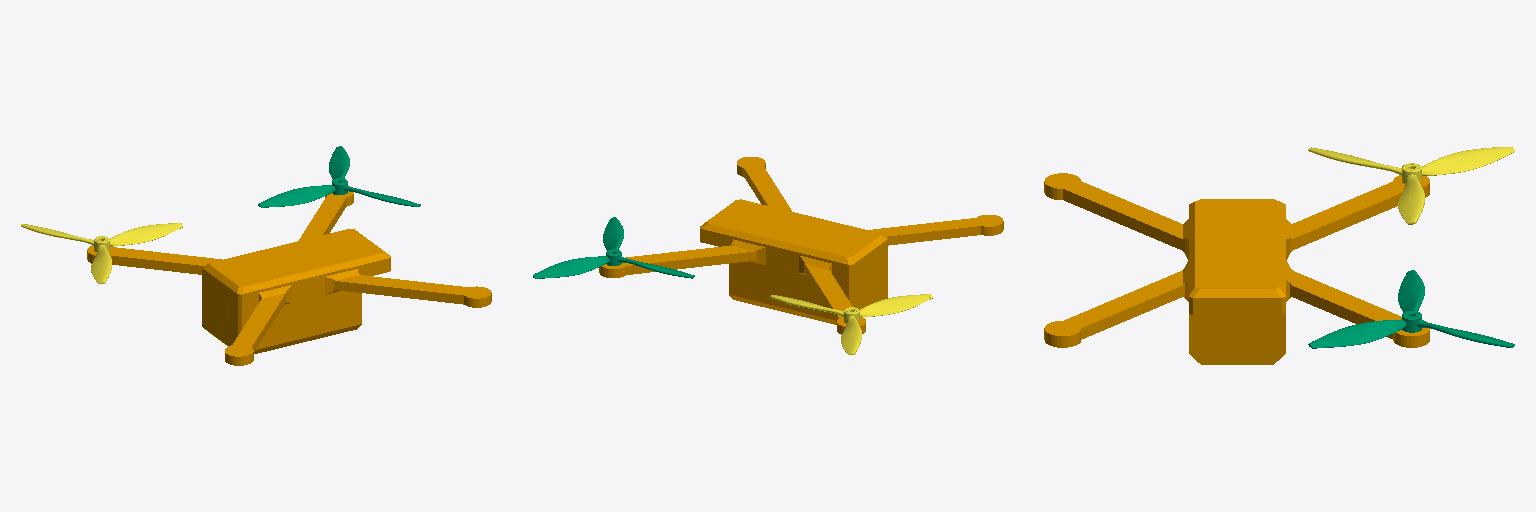
robot.urdf — FAST_ASSEMBLY:
<?xml version='1.0' encoding='utf-8'?>
<robot name="FAST_ASSEMBLY">
    <link name="FAST_DESING-v26_DRONE_FAST">
        <inertial>
            <origin xyz="0.0008831251289440756 3.924268322443325e-18 0.04477388860190275" rpy="0.0 0.0 0.0" />
            <mass value="1.0856969754697694" />
            <inertia ixx="0.0023387732420122303" iyy="0.003780645171860374" izz="0.005019179265963876" ixy="1.0611763546758318e-17" iyz="2.6630532856281276e-18" ixz="-0.00013395066766006827" />
        </inertial>
        <visual name="FAST_DESING-v26_DRONE_FAST_visual">
            <origin xyz="0.0 0.0 0.0" rpy="0.0 0.0 0.0" />
            <geometry>
                <mesh filename="meshes/FAST_DESING-v26_DRONE_FAST.stl" scale="0.001 0.001 0.001" />
            </geometry>
        </visual>
        <collision name="FAST_DESING-v26_DRONE_FAST_collision">
            <origin xyz="0.0 0.0 0.0" rpy="0.0 0.0 0.0" />
            <geometry>
                <mesh filename="meshes/FAST_DESING-v26_DRONE_FAST.stl" scale="0.001 0.001 0.001" />
            </geometry>
        </collision>
    </link>
    <link name="HELICE_PRUEBA-v9_Helice_CCW_1">
        <inertial>
            <origin xyz="6.544494279386152e-09 2.7501721699366677e-08 0.006490106958943444" rpy="0.0 0.0 0.0" />
            <mass value="0.018439981901447588" />
            <inertia ixx="2.2682595641485005e-05" iyy="2.2682593734411216e-05" izz="4.521167580913451e-05" ixy="4.360944123317672e-12" iyz="1.5944499645921659e-12" ixz="8.803185505129294e-13" />
        </inertial>
        <visual name="HELICE_PRUEBA-v9_Helice_CCW_1_visual">
            <origin xyz="0.0 0.0 0.0" rpy="0.0 0.0 0.0" />
            <geometry>
                <mesh filename="meshes/HELICE_PRUEBA-v9_Helice_CCW_1.stl" scale="0.001 0.001 0.001" />
            </geometry>
        </visual>
        <collision name="HELICE_PRUEBA-v9_Helice_CCW_1_collision">
            <origin xyz="0.0 0.0 0.0" rpy="0.0 0.0 0.0" />
            <geometry>
                <mesh filename="meshes/HELICE_PRUEBA-v9_Helice_CCW_1.stl" scale="0.001 0.001 0.001" />
            </geometry>
        </collision>
    </link>
    <link name="HELICE_PRUEBA-v9_Helice_CW_1">
        <inertial>
            <origin xyz="-6.544494282403448e-09 2.7501721704836438e-08 0.006490106958943424" rpy="0.0 0.0 0.0" />
            <mass value="0.018439981901447793" />
            <inertia ixx="2.268259564148882e-05" iyy="2.2682593734416413e-05" izz="4.521167580913631e-05" ixy="-4.360944137235399e-12" iyz="1.594450029800999e-12" ixz="-8.803185330206345e-13" />
        </inertial>
        <visual name="HELICE_PRUEBA-v9_Helice_CW_1_visual">
            <origin xyz="0.0 0.0 0.0" rpy="0.0 0.0 0.0" />
            <geometry>
                <mesh filename="meshes/HELICE_PRUEBA-v9_Helice_CW_1.stl" scale="0.001 0.001 0.001" />
            </geometry>
        </visual>
        <collision name="HELICE_PRUEBA-v9_Helice_CW_1_collision">
            <origin xyz="0.0 0.0 0.0" rpy="0.0 0.0 0.0" />
            <geometry>
                <mesh filename="meshes/HELICE_PRUEBA-v9_Helice_CW_1.stl" scale="0.001 0.001 0.001" />
            </geometry>
        </collision>
    </link>
    <link name="HELICE_PRUEBA-v9_Helice_CCW_2">
        <inertial>
            <origin xyz="6.544494277494715e-09 2.7501721701676053e-08 0.006490106958943447" rpy="0.0 0.0 0.0" />
            <mass value="0.018439981901447588" />
            <inertia ixx="2.2682595641484985e-05" iyy="2.2682593734411433e-05" izz="4.521167580913455e-05" ixy="4.3609440136383145e-12" iyz="1.5944499535747863e-12" ixz="8.803185981946632e-13" />
        </inertial>
        <visual name="HELICE_PRUEBA-v9_Helice_CCW_2_visual">
            <origin xyz="0.0 0.0 0.0" rpy="0.0 0.0 0.0" />
            <geometry>
                <mesh filename="meshes/HELICE_PRUEBA-v9_Helice_CCW_2.stl" scale="0.001 0.001 0.001" />
            </geometry>
        </visual>
        <collision name="HELICE_PRUEBA-v9_Helice_CCW_2_collision">
            <origin xyz="0.0 0.0 0.0" rpy="0.0 0.0 0.0" />
            <geometry>
                <mesh filename="meshes/HELICE_PRUEBA-v9_Helice_CCW_2.stl" scale="0.001 0.001 0.001" />
            </geometry>
        </collision>
    </link>
    <link name="HELICE_PRUEBA-v9_Helice_CW_2">
        <inertial>
            <origin xyz="-6.544494302373689e-09 2.7501721720398925e-08 0.006490106958943447" rpy="0.0 0.0 0.0" />
            <mass value="0.018439981901447793" />
            <inertia ixx="2.268259564148865e-05" iyy="2.2682593734416325e-05" izz="4.5211675809136176e-05" ixy="-4.360943989714718e-12" iyz="1.594450041572691e-12" ixz="-8.803184873002576e-13" />
        </inertial>
        <visual name="HELICE_PRUEBA-v9_Helice_CW_2_visual">
            <origin xyz="0.0 0.0 0.0" rpy="0.0 0.0 0.0" />
            <geometry>
                <mesh filename="meshes/HELICE_PRUEBA-v9_Helice_CW_2.stl" scale="0.001 0.001 0.001" />
            </geometry>
        </visual>
        <collision name="HELICE_PRUEBA-v9_Helice_CW_2_collision">
            <origin xyz="0.0 0.0 0.0" rpy="0.0 0.0 0.0" />
            <geometry>
                <mesh filename="meshes/HELICE_PRUEBA-v9_Helice_CW_2.stl" scale="0.001 0.001 0.001" />
            </geometry>
        </collision>
    </link>
    <joint name="FAST_DESING-v26_DRONE_FAST_Revolución-23" type="continuous">
        <origin xyz="-0.13299495086304286 0.13699495018794397 0.06700000447931698" rpy="-8.326672684688669e-17 2.775557561562892e-17 5.551115123125783e-17" />
        <parent link="FAST_DESING-v26_DRONE_FAST" />
        <child link="HELICE_PRUEBA-v9_Helice_CCW_2" />
        <axis xyz="6.162975822039155e-33 0.0 1.0" />
    </joint>
    <joint name="FAST_DESING-v26_DRONE_FAST_Revolución-24" type="continuous">
        <origin xyz="0.14099494913695718 -0.13699494981205615 0.067000004479317" rpy="-8.326672684688669e-17 2.775557561562892e-17 5.551115123125783e-17" />
        <parent link="FAST_DESING-v26_DRONE_FAST" />
        <child link="HELICE_PRUEBA-v9_Helice_CCW_1" />
        <axis xyz="6.162975822039155e-33 0.0 1.0" />
    </joint>
    <joint name="FAST_DESING-v26_DRONE_FAST_Revolución-25" type="continuous">
        <origin xyz="0.14099494913695712 0.13699495018794397 0.06700000447931698" rpy="-8.326672684688669e-17 2.775557561562892e-17 5.551115123125783e-17" />
        <parent link="FAST_DESING-v26_DRONE_FAST" />
        <child link="HELICE_PRUEBA-v9_Helice_CW_1" />
        <axis xyz="6.162975822039155e-33 0.0 1.0" />
    </joint>
    <joint name="FAST_DESING-v26_DRONE_FAST_Revolución-26" type="continuous">
        <origin xyz="-0.1329949508630428 -0.13699494981205615 0.06700000447931702" rpy="-8.326672684688669e-17 2.775557561562892e-17 5.551115123125783e-17" />
        <parent link="FAST_DESING-v26_DRONE_FAST" />
        <child link="HELICE_PRUEBA-v9_Helice_CW_2" />
        <axis xyz="6.162975822039155e-33 0.0 1.0" />
    </joint>
</robot>

--- Render facts (derived) ---
3 views of the same robot in one strip: view 1: azimuth 30°, elevation 25°; view 2: azimuth 150°, elevation 25°; view 3: azimuth 270°, elevation 25° (orthographic).
Model FAST_ASSEMBLY with 5 links and 4 joints (4 continuous), rooted at FAST_DESING-v26_DRONE_FAST, posed every joint at zero.
Links seen in each view (by area): view 1: FAST_DESING-v26_DRONE_FAST, HELICE_PRUEBA-v9_Helice_CW_1, HELICE_PRUEBA-v9_Helice_CCW_2; view 2: FAST_DESING-v26_DRONE_FAST, HELICE_PRUEBA-v9_Helice_CW_1, HELICE_PRUEBA-v9_Helice_CCW_2; view 3: FAST_DESING-v26_DRONE_FAST, HELICE_PRUEBA-v9_Helice_CW_1, HELICE_PRUEBA-v9_Helice_CCW_2.
Boxes of the visible links, x1,y1,x2,y2 form: FAST_DESING-v26_DRONE_FAST: (87,191,491,365); HELICE_PRUEBA-v9_Helice_CW_1: (258,146,420,207); HELICE_PRUEBA-v9_Helice_CCW_2: (21,223,182,283); FAST_DESING-v26_DRONE_FAST: (599,157,1003,334); HELICE_PRUEBA-v9_Helice_CW_1: (533,217,694,278); HELICE_PRUEBA-v9_Helice_CCW_2: (770,294,932,354); FAST_DESING-v26_DRONE_FAST: (1044,173,1429,364); HELICE_PRUEBA-v9_Helice_CW_1: (1308,270,1514,348); HELICE_PRUEBA-v9_Helice_CCW_2: (1308,147,1514,224).
Size in the robot's own frame: 0.3721 by 0.3699 by 0.08 metres.
Meshes: 5 distinct files referenced, 3 mesh visuals loaded (3 binary STL); not drawn: 2 (reference not matched to a file when rendering).
